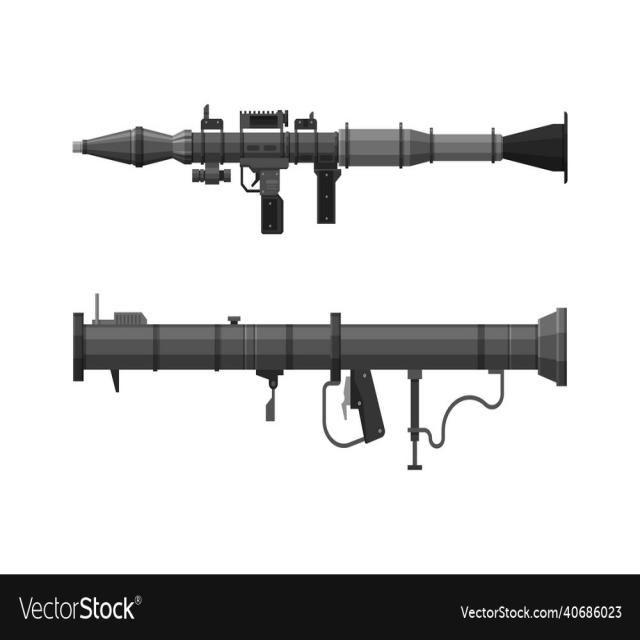Lancher: (49, 286, 617, 504), (64, 89, 617, 266)
